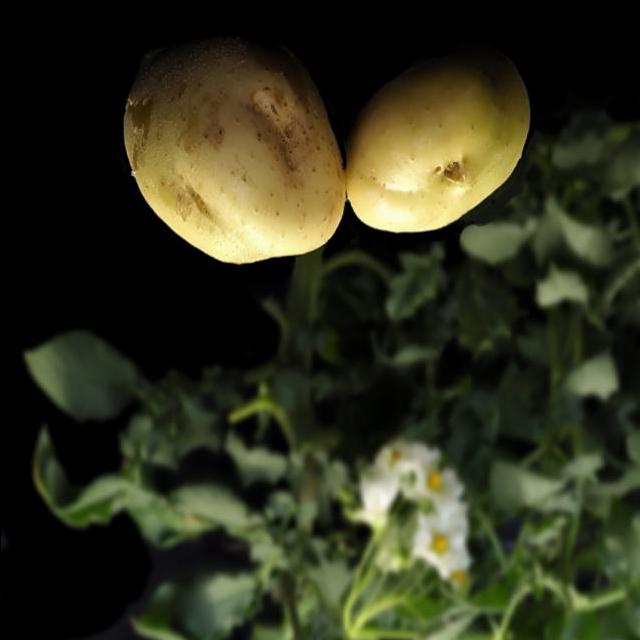potato: (122, 47, 345, 265), (345, 66, 533, 233)
